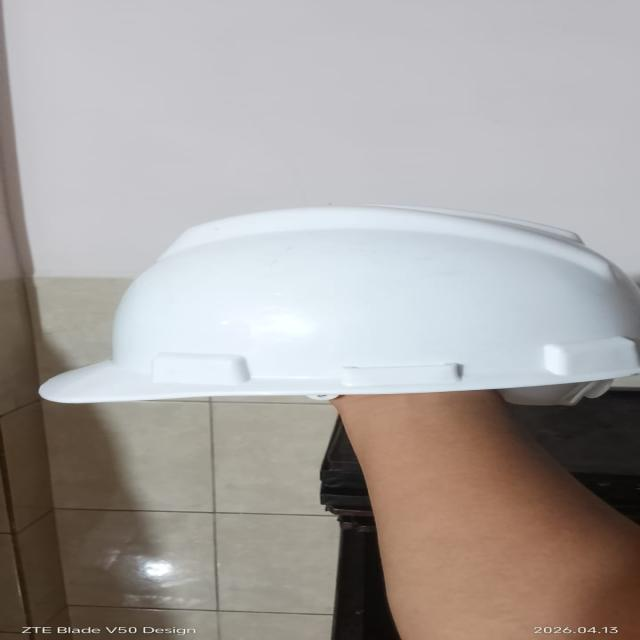casco: (26, 189, 640, 408)
